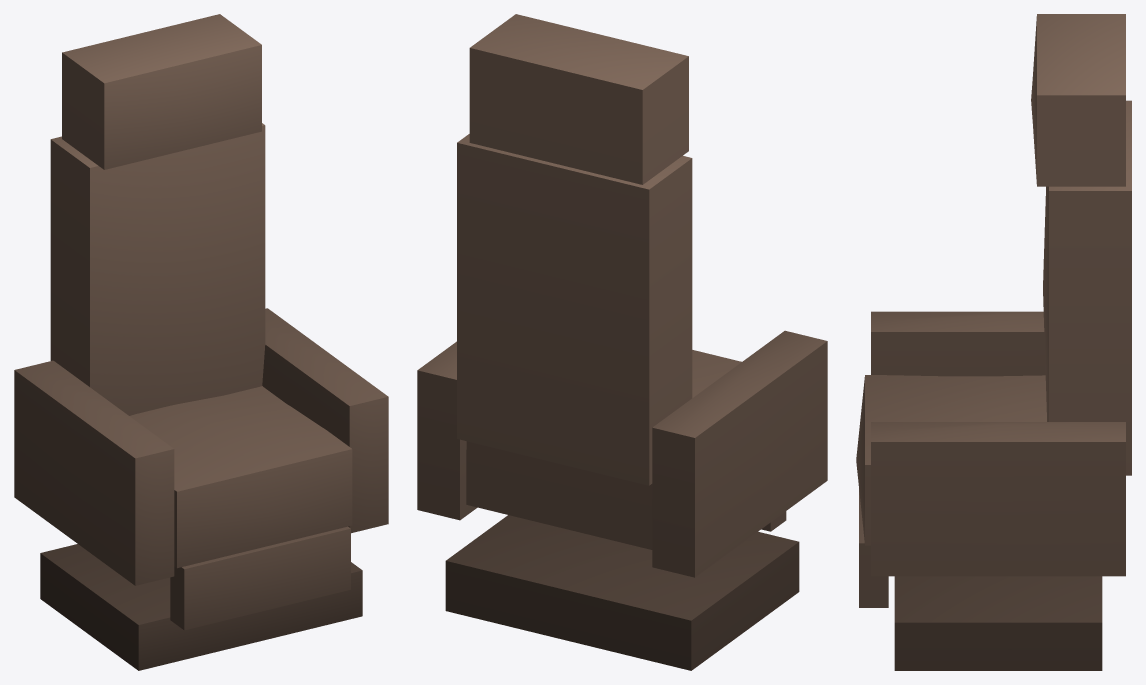
File: recliner_single_lod2.glb
The picture shows the model from 3 angles, left to right: view 1: azimuth 30°, elevation 25°; view 2: azimuth 150°, elevation 25°; view 3: azimuth 270°, elevation 25°; orthographic projection. The views are drawn at different scales.
Visible parts, largest first — view 1: ReclinerSingle_LOD2; view 2: ReclinerSingle_LOD2; view 3: ReclinerSingle_LOD2.
Part boxes in pixels (x1,y1,x2,y2): ReclinerSingle_LOD2: (14,14,388,670); ReclinerSingle_LOD2: (417,14,827,670); ReclinerSingle_LOD2: (856,14,1131,670).
Bounding box in the file's own units: 1.08 × 2.08 × 0.93.
